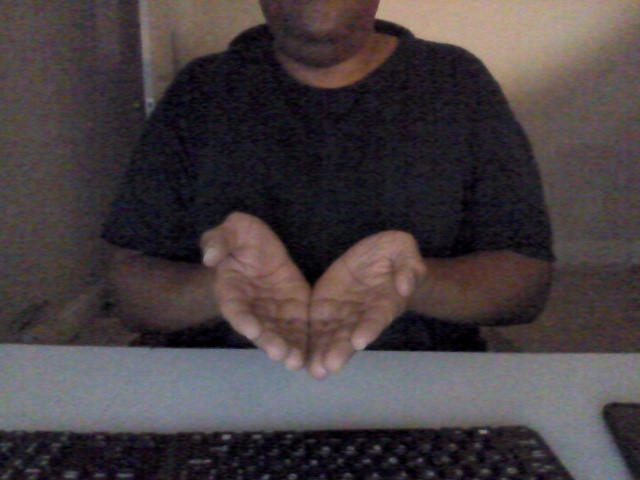book: (197, 204, 435, 382)
